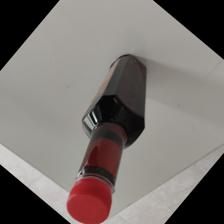Namngu: (65, 53, 150, 224)
